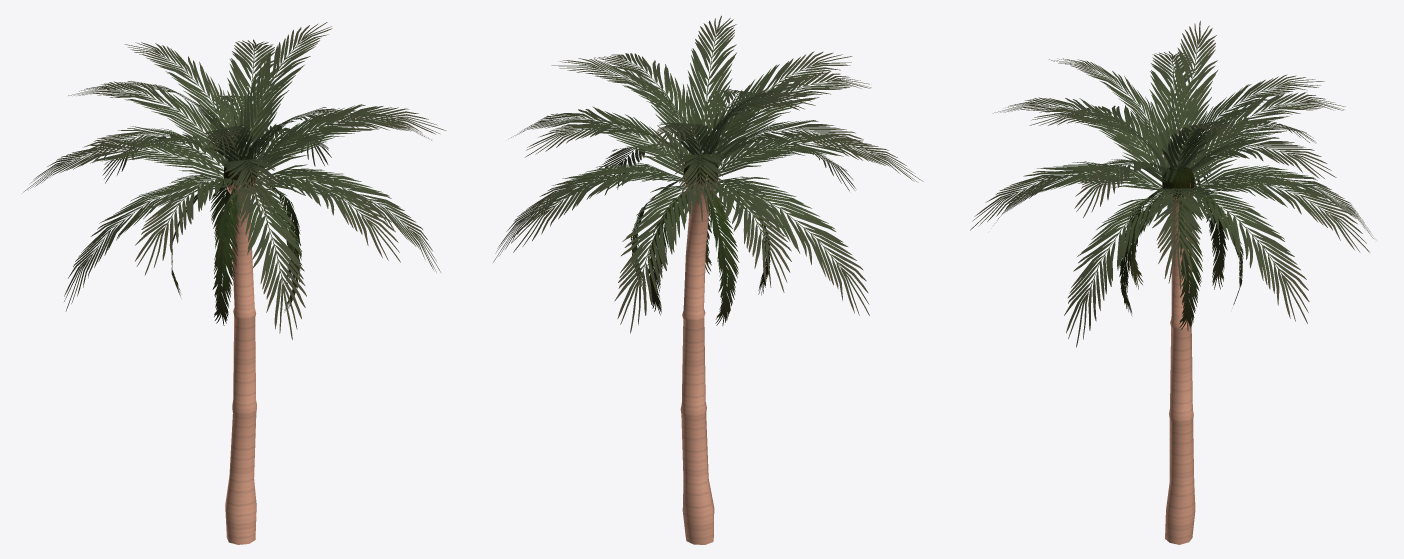
Rendered from tree_palm.dae.
The picture shows the model from 3 angles, left to right: view 1: azimuth 30°, elevation 25°; view 2: azimuth 150°, elevation 25°; view 3: azimuth 270°, elevation 25°; orthographic projection. The views are drawn at different scales.
Visible parts, largest first — view 1: palm; view 2: palm; view 3: palm.
Boxes of the visible parts, x1,y1,x2,y2 form: palm: (23,22,446,544); palm: (493,15,923,544); palm: (970,21,1373,544).
Size of the model in its own units: 10.31 by 10.56 by 12.48.
Materials: 1 (1 with a texture image).
